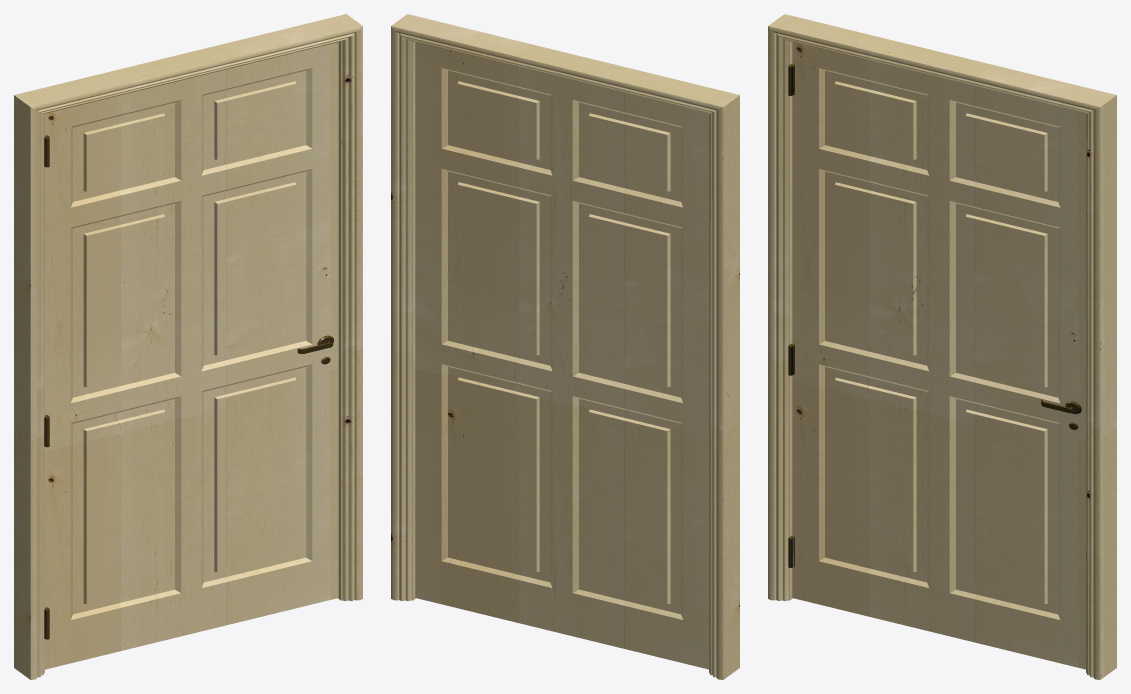
Rendered from wooden_door.obj.
3 views of the same model, side by side, from view 1: azimuth 30°, elevation 25°; view 2: azimuth 150°, elevation 25°; view 3: azimuth 330°, elevation 25° (orthographic).
Parts seen in each view (by area): view 1: 10057_wooden_door_v3_iterations-2; view 2: 10057_wooden_door_v3_iterations-2; view 3: 10057_wooden_door_v3_iterations-2.
Boxes of the visible parts, left/top/right/bottom form: 10057_wooden_door_v3_iterations-2: left=14, top=14, right=362, bottom=679; 10057_wooden_door_v3_iterations-2: left=391, top=14, right=739, bottom=679; 10057_wooden_door_v3_iterations-2: left=768, top=14, right=1116, bottom=679.
Bounding box in the file's own units: 1.32 × 2.17 × 0.124.
1 material, 1 textured.
